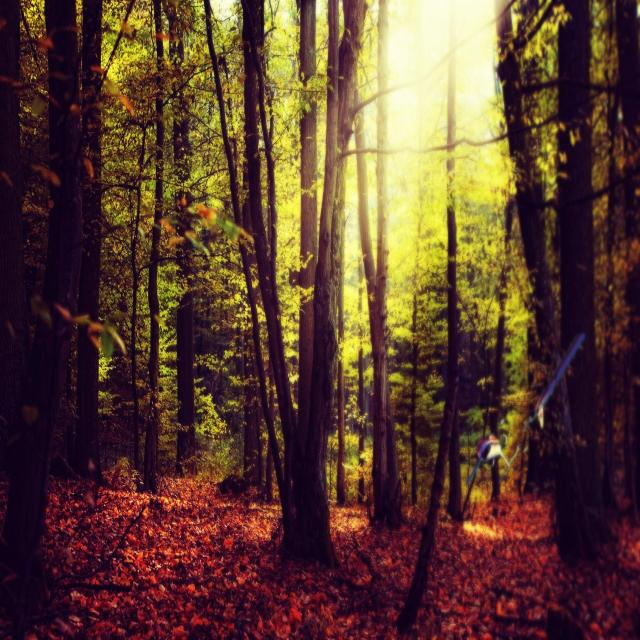airplane: (527, 324, 586, 430), (470, 430, 520, 490)
